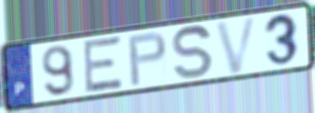3: (263, 12, 303, 69)
9: (40, 43, 77, 97)
E: (83, 34, 125, 96)
P: (126, 30, 169, 88)
S: (171, 23, 215, 80)
V: (213, 14, 260, 77)
